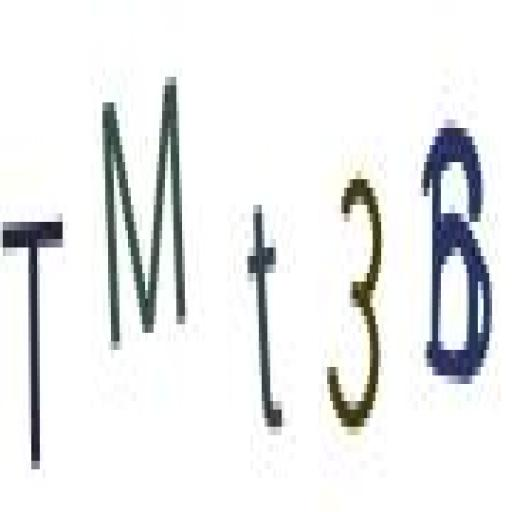3: (326, 154, 394, 452)
B: (413, 91, 502, 403)
M: (99, 76, 186, 347)
T: (0, 192, 71, 480)
t: (239, 194, 298, 454)
